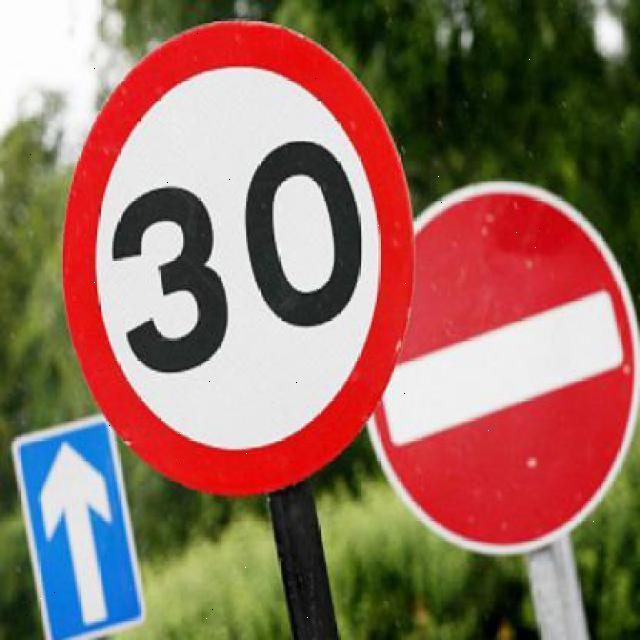speed limit 30: (63, 18, 416, 497)
